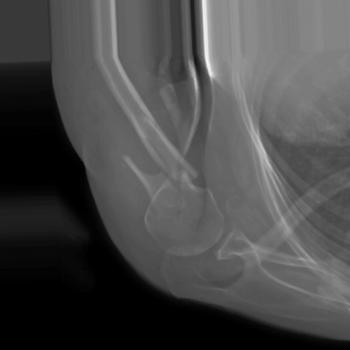Fracture: (114, 138, 206, 190)
